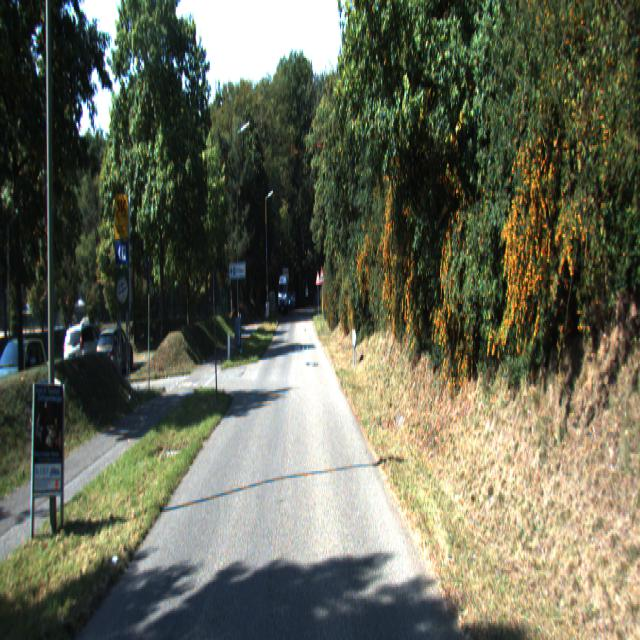Car: (0, 335, 52, 426), (63, 323, 107, 382), (95, 326, 134, 382)
